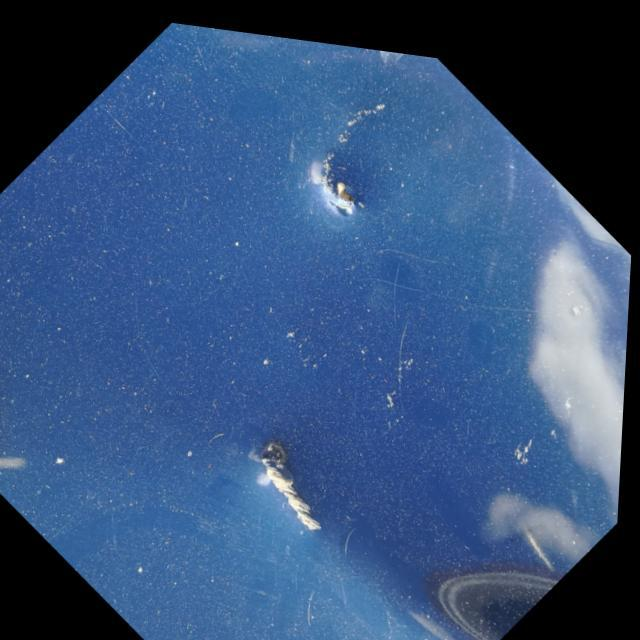dent: (280, 92, 420, 226), (238, 407, 355, 564)
